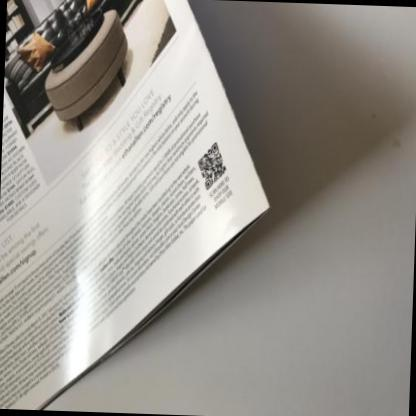Paper: (0, 0, 269, 409)
